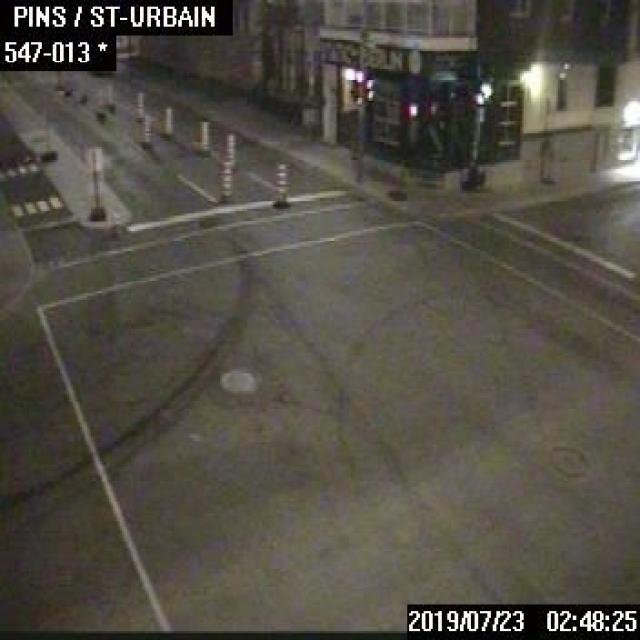construction: (214, 162, 234, 202), (273, 158, 287, 204), (222, 130, 235, 170), (160, 102, 173, 138), (140, 113, 152, 146), (196, 118, 208, 149), (132, 89, 144, 120), (94, 86, 103, 114), (105, 80, 114, 106)
